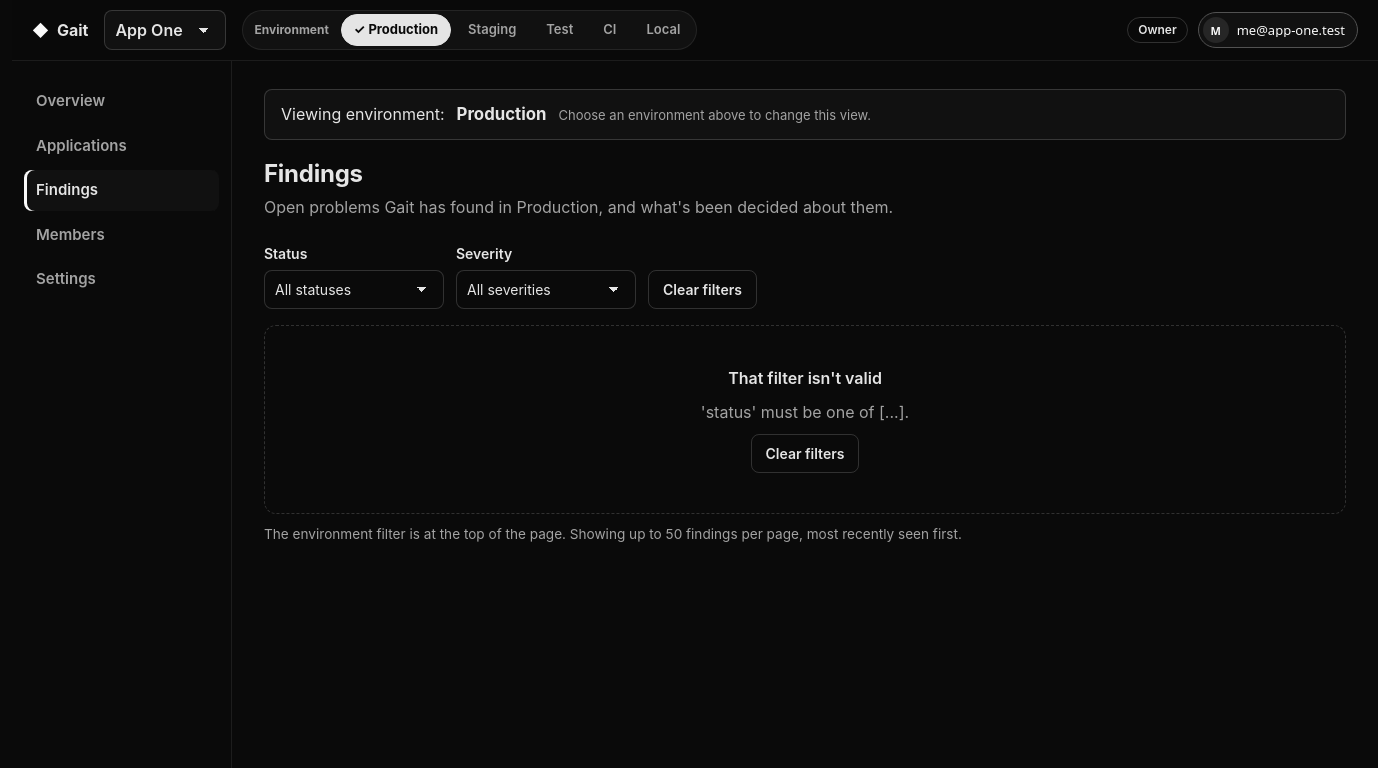
Test: F3 findings list › an invalid filter (400 INVALID_QUERY) is explained, with a way out
Expected: the text "That filter isn't valid" is shown, [728,366,882,390]
Expected: the text "'status' must be one of [...]." is shown, [701,400,909,424]
Click the button "Clear filters" below "Severity" at [702, 290], box [648,270,757,309]
(page scrolled)
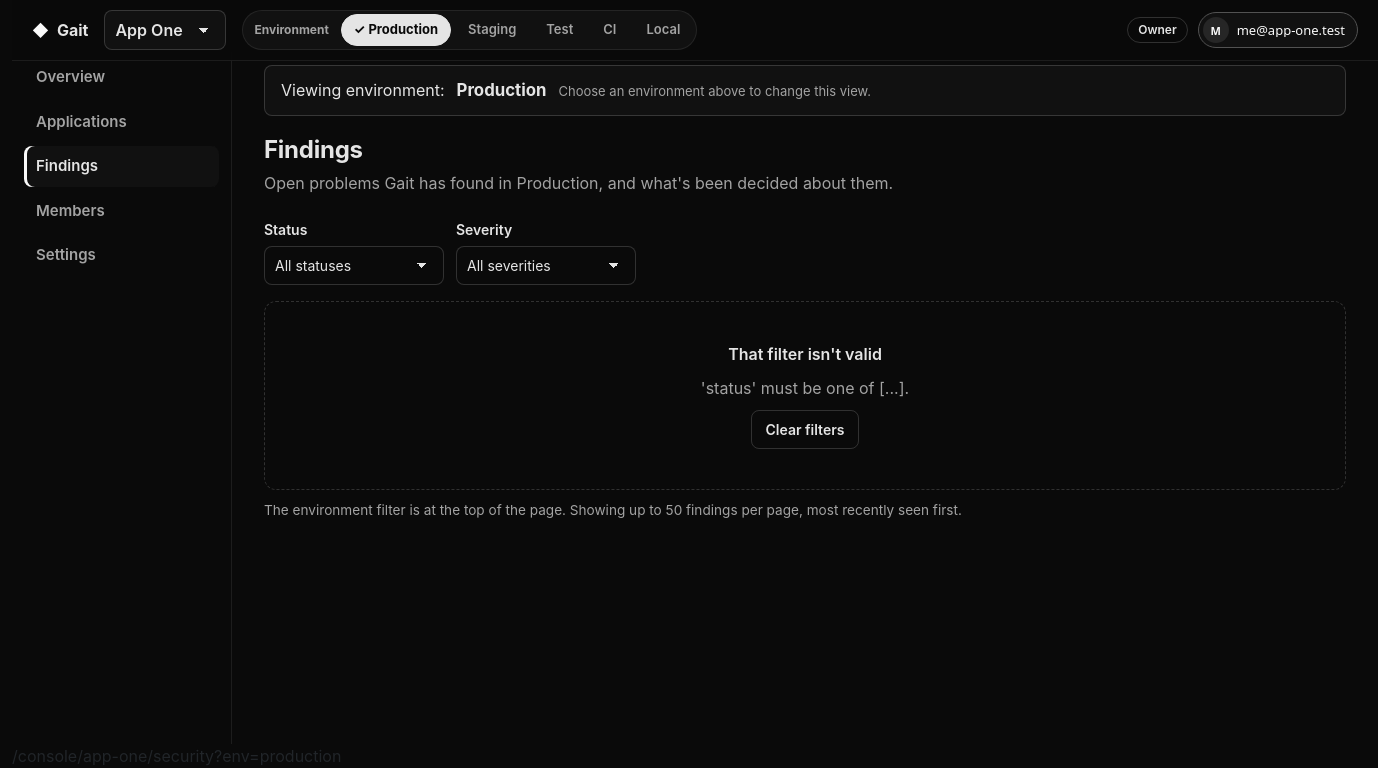
Now the text with test id "location" no longer shows "status=", box [12,746,341,766]
